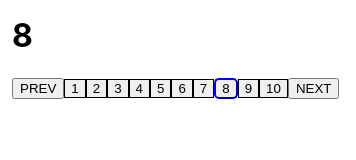
Test: Should disable  next button
Expected: the heading with test id "currVal" reads "8", [12, 16, 33, 55]
Click the button with test id "nextBtn": click(314, 88) [288, 78, 339, 99]
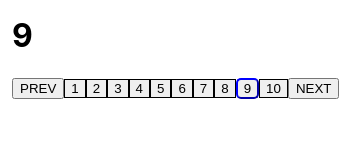
Expected: the heading with test id "currVal" reads "9", [12, 16, 33, 55]
Click the button with test id "nextBtn": click(314, 88) [288, 78, 339, 99]
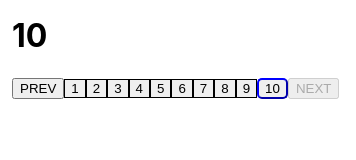
Expected: the heading with test id "currVal" reads "10", [12, 16, 47, 55]
Expected: the button with test id "nextBtn" is disabled, [288, 78, 339, 99]
